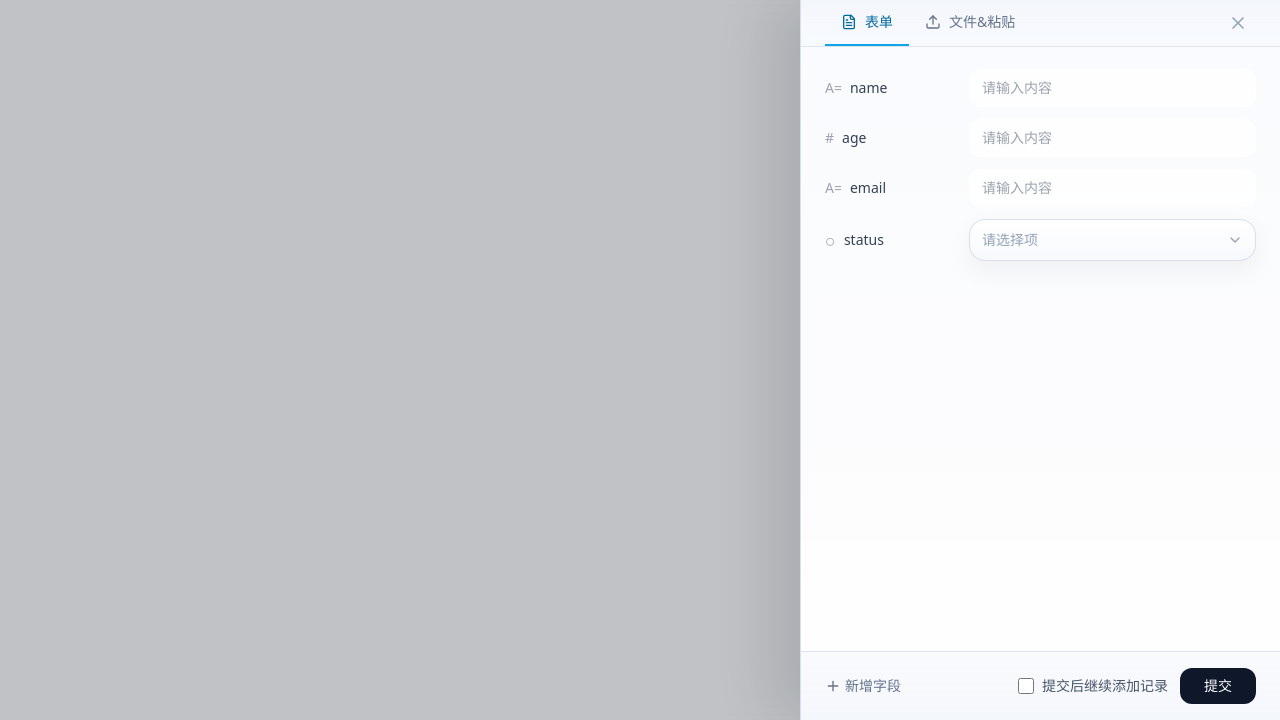
Scenario: AddRecordDrawer › Tab Switching › should switch to file/paste tab when clicked
Click on file tab
Click the button "文件&粘贴". click: (970, 23)
box: [909,0,1031,46]
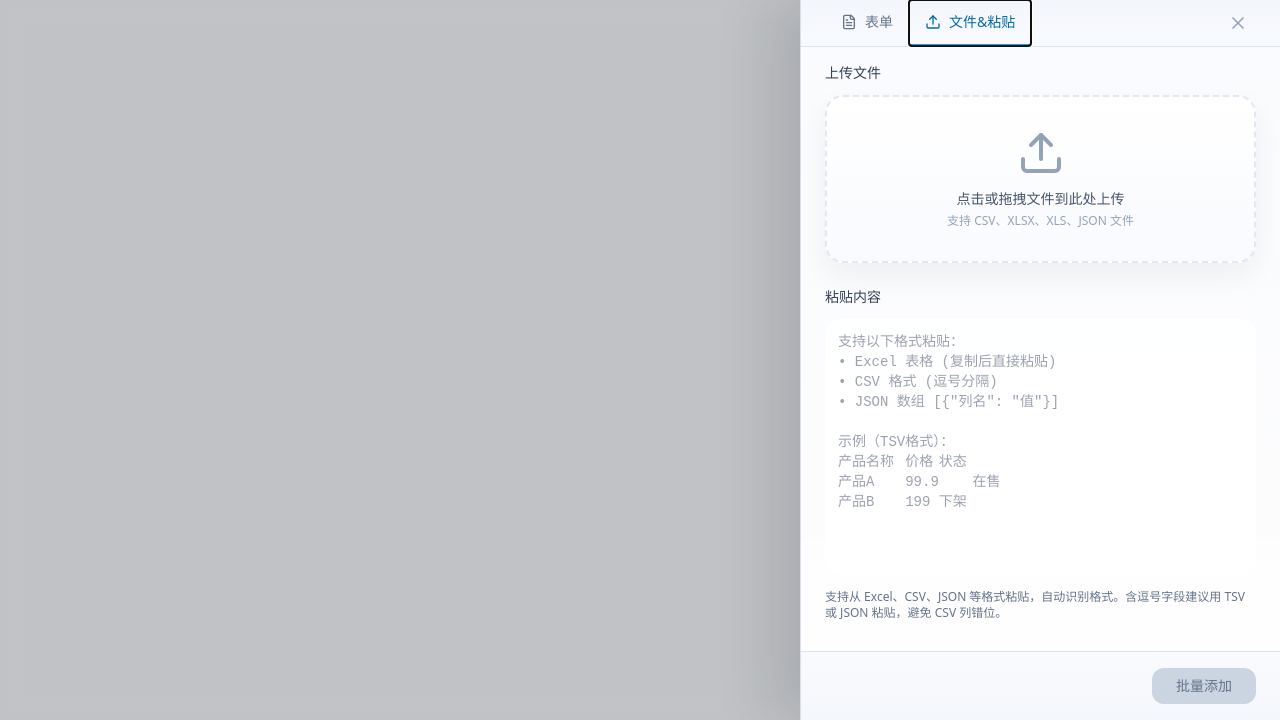
Check: the text "粘贴内容" is shown, box [825,287,881,306]
Check: the text "上传文件" is shown, box [825,63,881,82]
